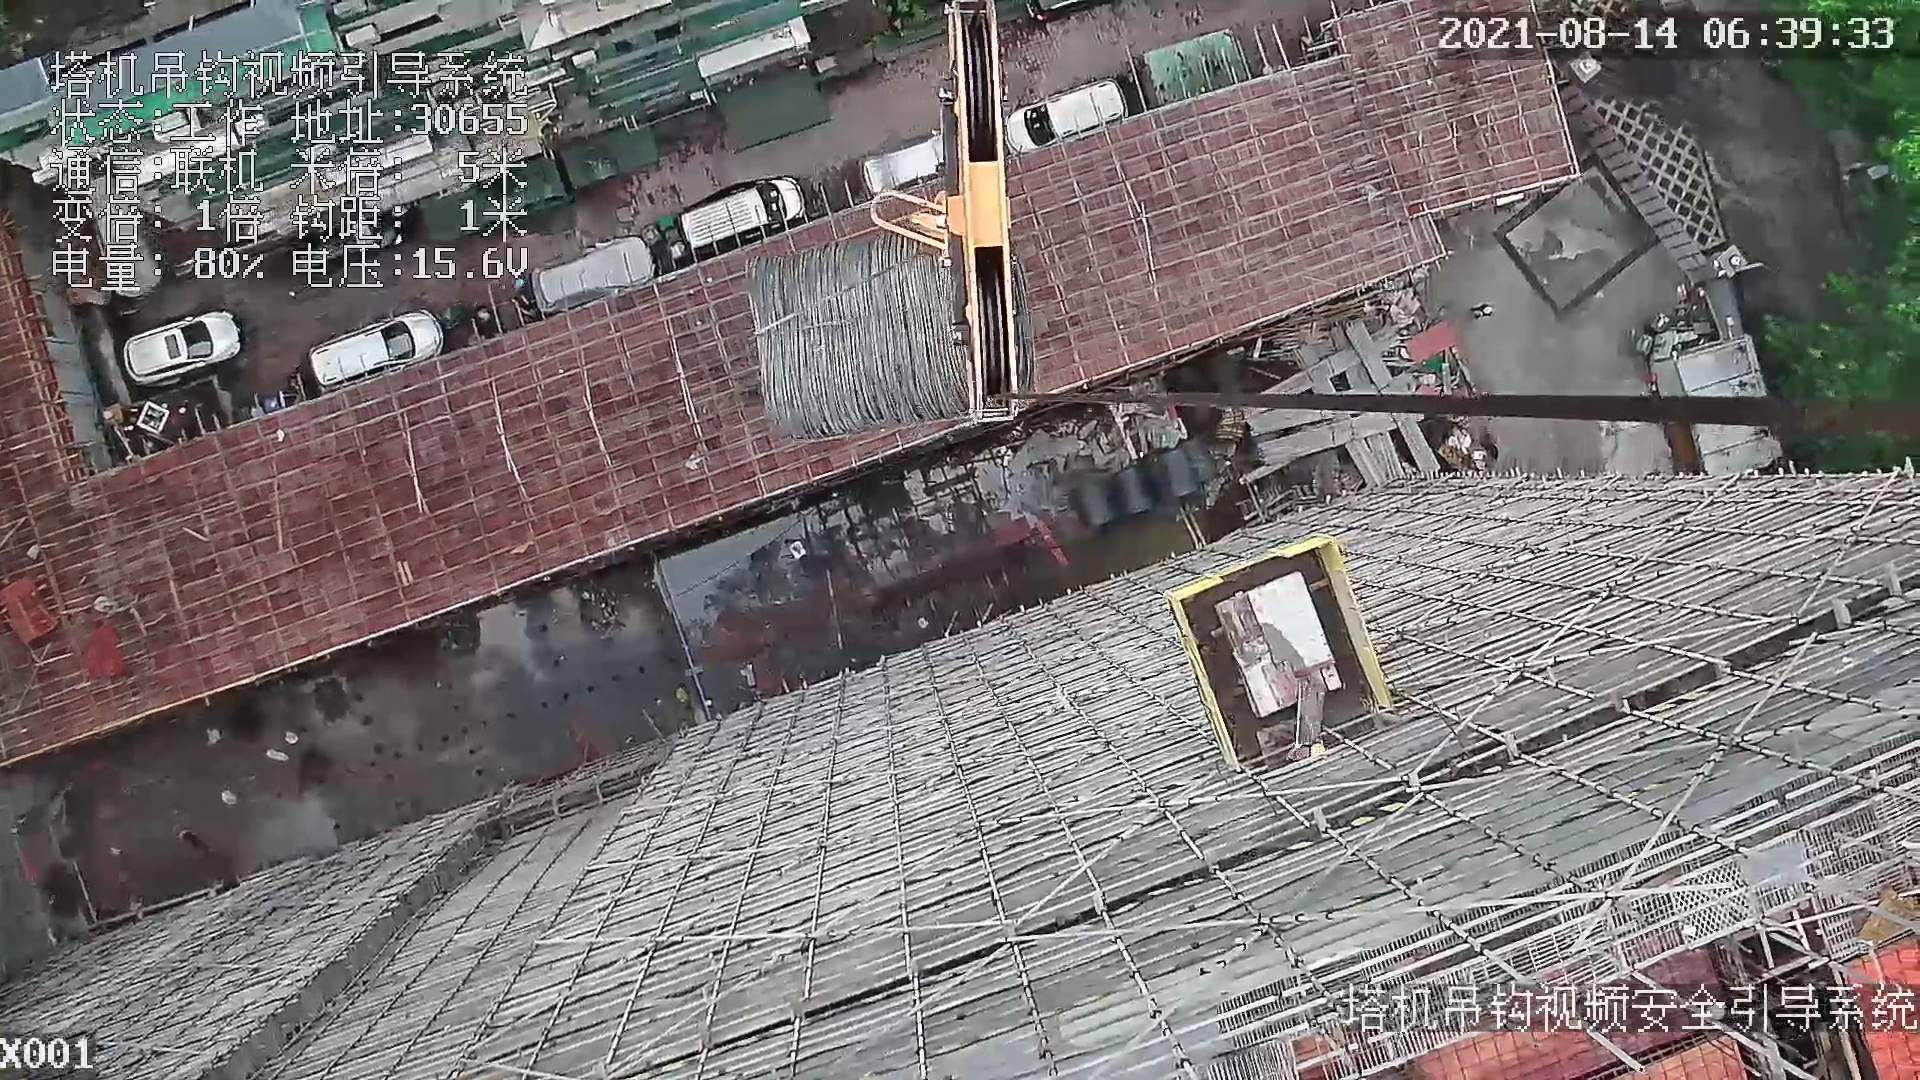hook: (855, 1, 1031, 423)
